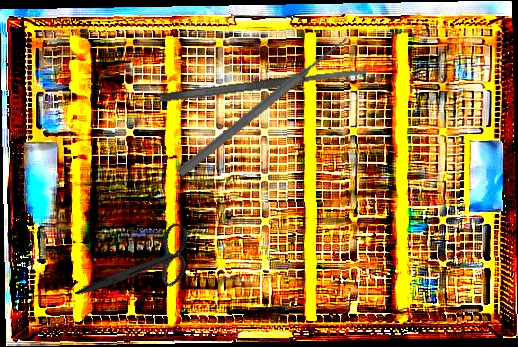Iris Scissors: (73, 197, 206, 338)
Pusher: (175, 32, 352, 180)
Spatula Surgical: (159, 66, 370, 104)
